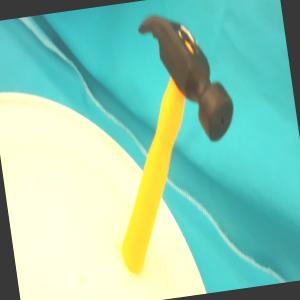martelo: (87, 2, 254, 280)
